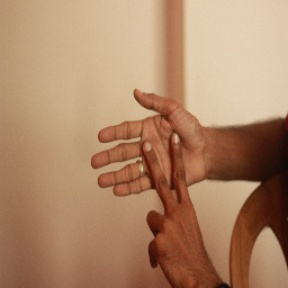N: (89, 84, 216, 253)
